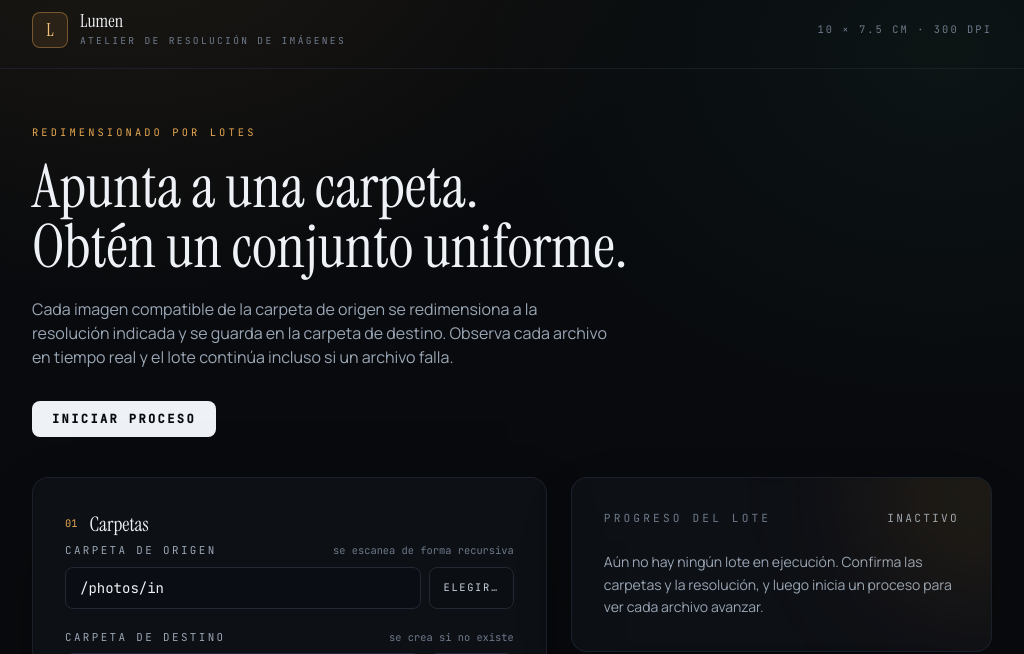
Scenario: App › saves edited values through PUT /api/config and confirms it (S6)
Replace the text in the field labelled "Carpeta de origen" with "/photos/new-in" at (243, 588), box x1=65 y1=567 x2=420 y2=609
(page scrolled)
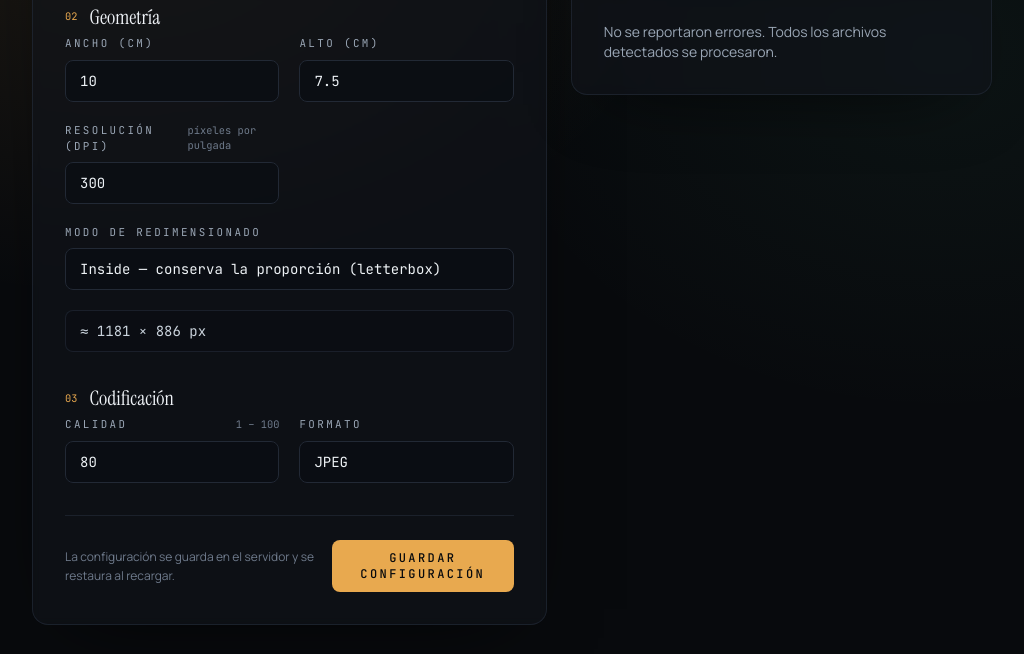
Click the button "Guardar configuración" at (423, 566), box x1=332 y1=540 x2=514 y2=592
(page scrolled)
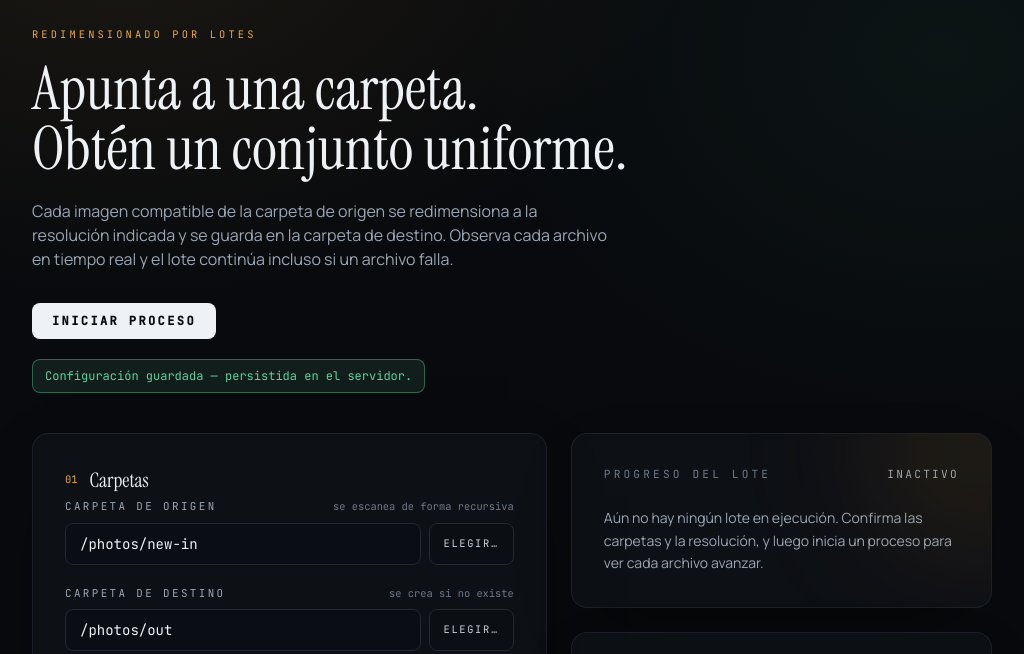
Now the message shows "Configuración guardada", box x1=45 y1=368 x2=412 y2=384
